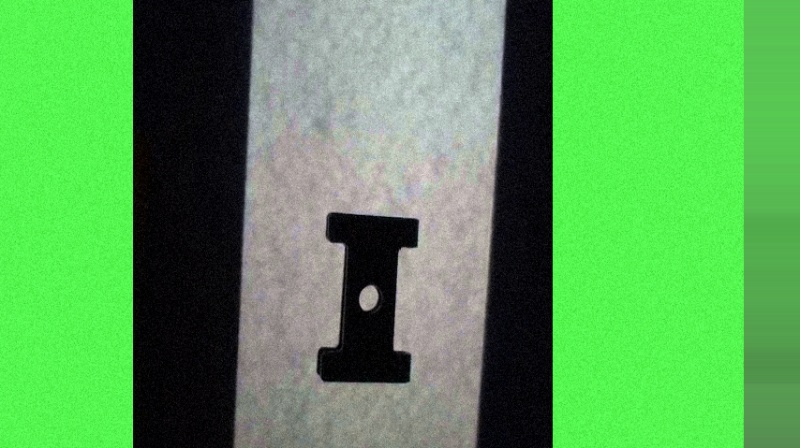O002: (309, 209, 420, 390)
